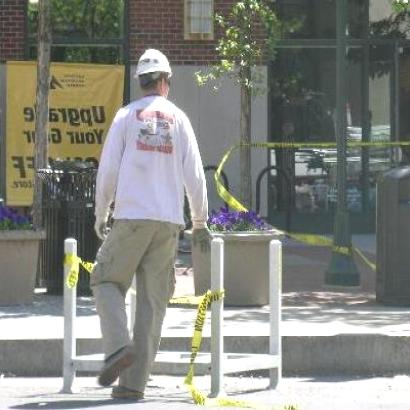ped: (92, 50, 210, 400)
